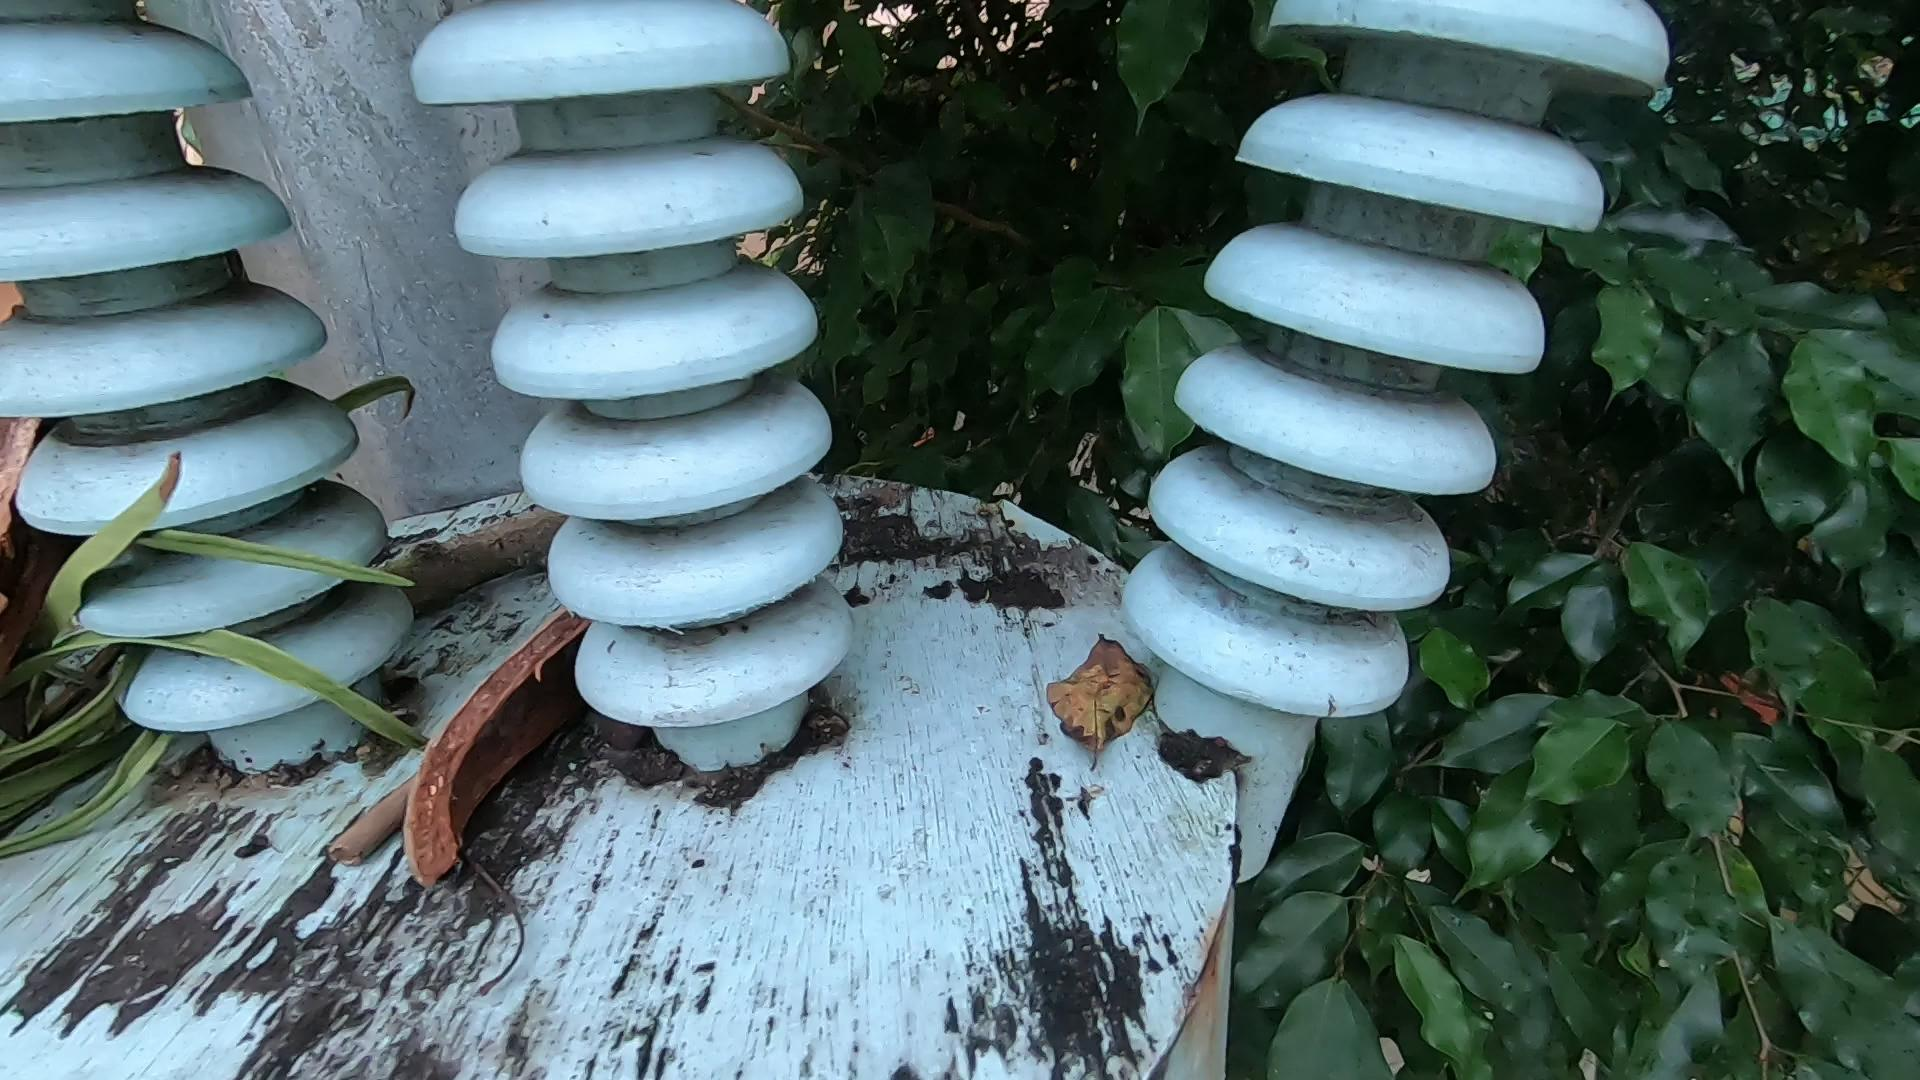branch with leaves: (9, 465, 537, 790)
leaf: (1015, 568, 1160, 818)
mahogany fruit: (393, 578, 767, 965), (1, 287, 78, 704)
tree branch: (214, 678, 720, 894)
